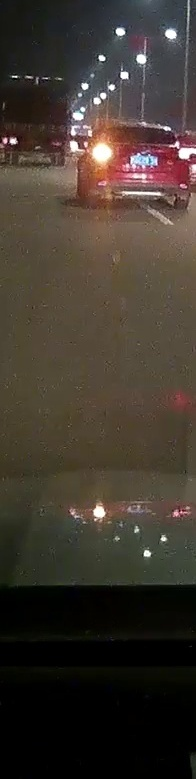L_light: (92, 143, 113, 164), (2, 137, 18, 145)
R_light: (175, 148, 189, 160), (50, 139, 64, 147)
T_light: (131, 127, 147, 129), (30, 126, 42, 128)
night-left: (92, 120, 191, 211)
night-no: (2, 75, 70, 167)
